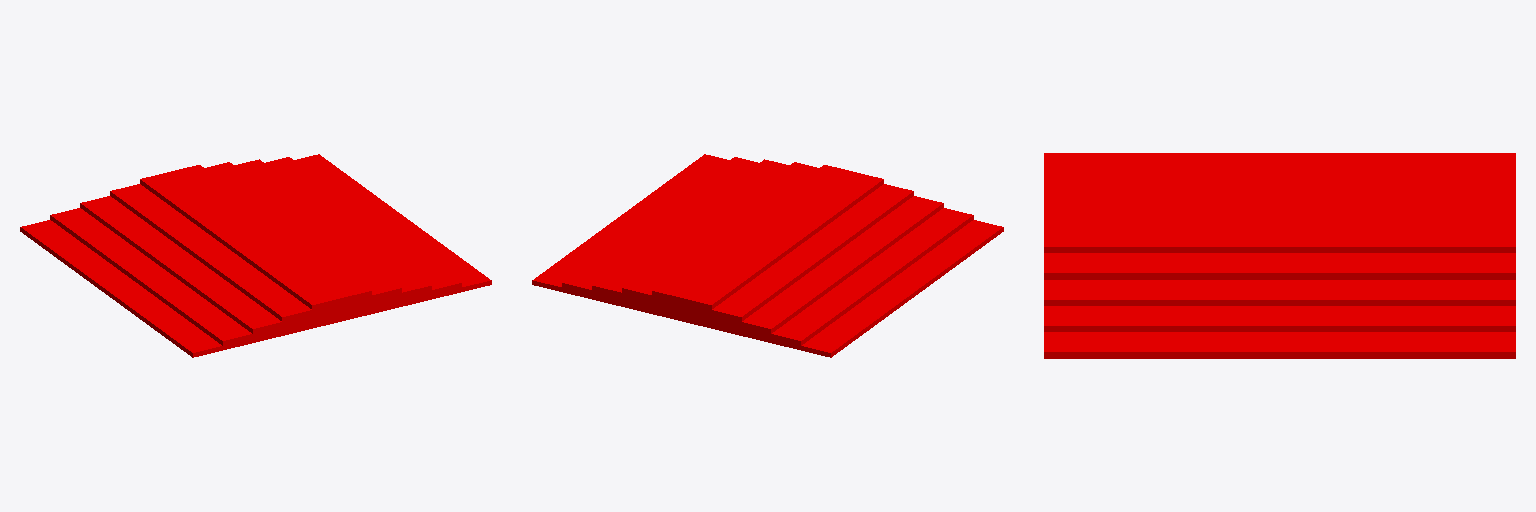
URDF robot description (stairs_robot):
<?xml version="1.0" ?>
<robot name="stairs_robot">
  
  <link name="world">
  </link>
  
  <link name="stairs">
		<contact>
			<lateral_friction value="1.0"/>
			<rolling_friction value="0.0"/>
			<contact_cfm value="0.0"/>
			<contact_erp value="1.0"/>
		</contact>
		<visual>
			<origin xyz="2 0 0" rpy="1.57079 0 0" />
			<geometry>
				<mesh filename="terrain_stairs.stl" scale="1 1 1" />
			</geometry>
			<material name="texture">
				<color rgba="1 0 0 1" />
			</material>
		</visual>
		<collision>
			<origin xyz="2 0 0" rpy="1.57079 0 0" />
			<geometry>
				<mesh filename="terrain_stairs.stl" scale="1 1 1" />
			</geometry>
		</collision>
		<inertial>
			<mass value="10.0" />
			<inertia ixx="1.0" ixy="0.0" ixz="0.0" iyy="1.0" iyz="0.0" izz="1.0" />
		</inertial>
	</link>
  
  <joint name="ramp_to_plane" type="fixed">
    <parent link="world"/>
    <child link="stairs"/>
    <origin xyz="0 0 0.01" rpy="0 0 0"/>
  </joint>

</robot>

--- Render facts (derived) ---
The picture shows the robot from 3 angles, left to right: view 1: azimuth 30°, elevation 25°; view 2: azimuth 150°, elevation 25°; view 3: azimuth 270°, elevation 25°; orthographic projection.
Model stairs_robot with 2 links and 1 joints (1 fixed), rooted at world, posed all joints at 0.
Links seen in each view (by area): view 1: stairs; view 2: stairs; view 3: stairs.
Boxes of the visible links, left/top/right/bottom form: stairs: left=20, top=154, right=491, bottom=357; stairs: left=532, top=154, right=1003, bottom=357; stairs: left=1044, top=153, right=1515, bottom=358.
Size in the robot's own frame: 10 by 10 by 0.7501 metres.
1 mesh visuals loaded from 1 distinct referenced files (1 binary STL).